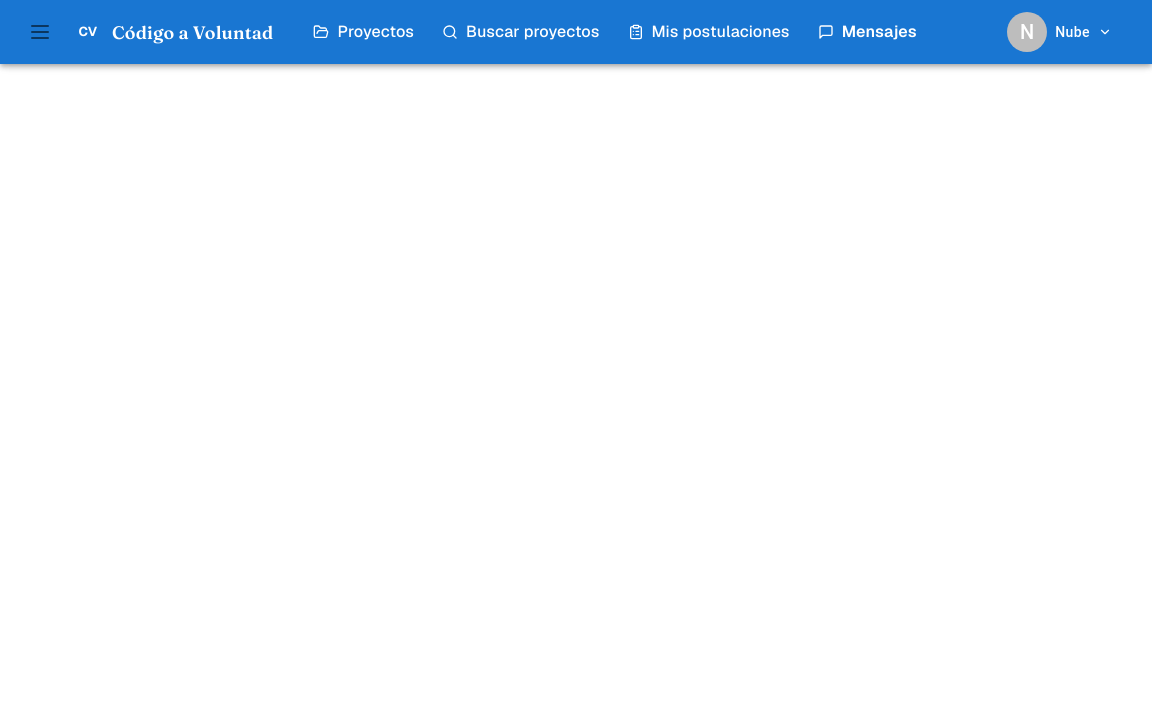
Navbar › el menú lateral se abre, se cierra con Escape y al elegir una sección
Click the button named "Abrir menú".
click(40, 32)  # box [20, 12, 60, 52]
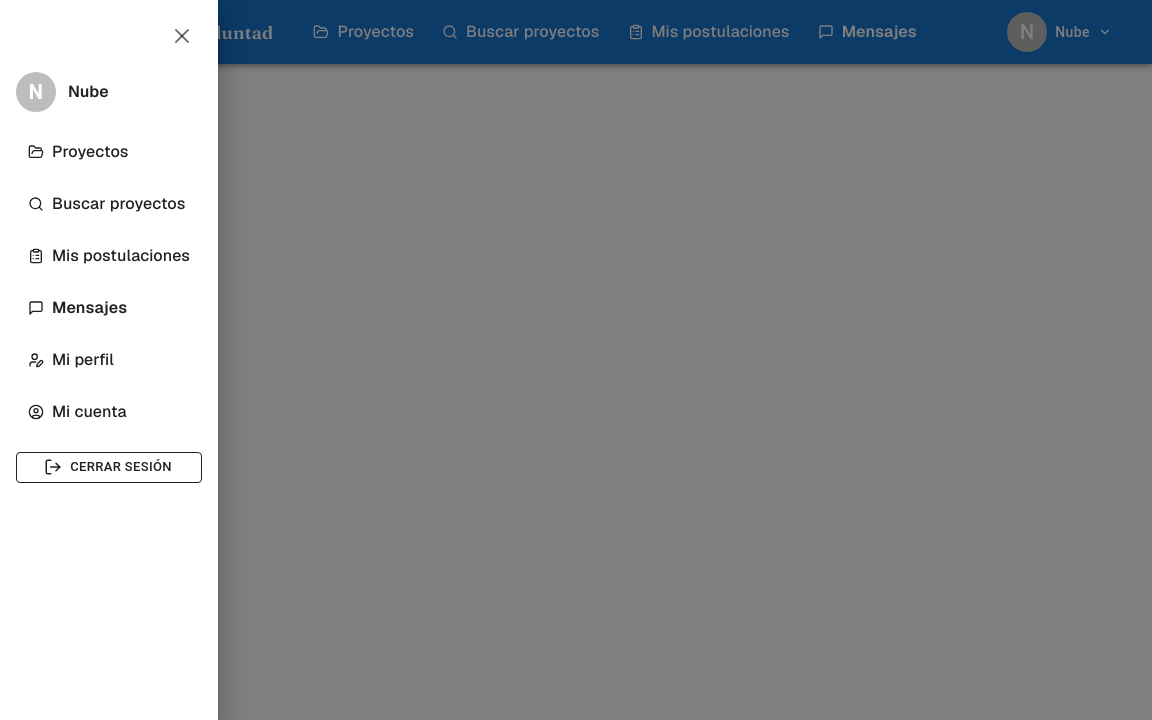
Check: the text "Nube" is shown, box [68, 80, 109, 104]
Check: the link "Mis postulaciones" is shown, box [28, 245, 190, 266]
Press Escape
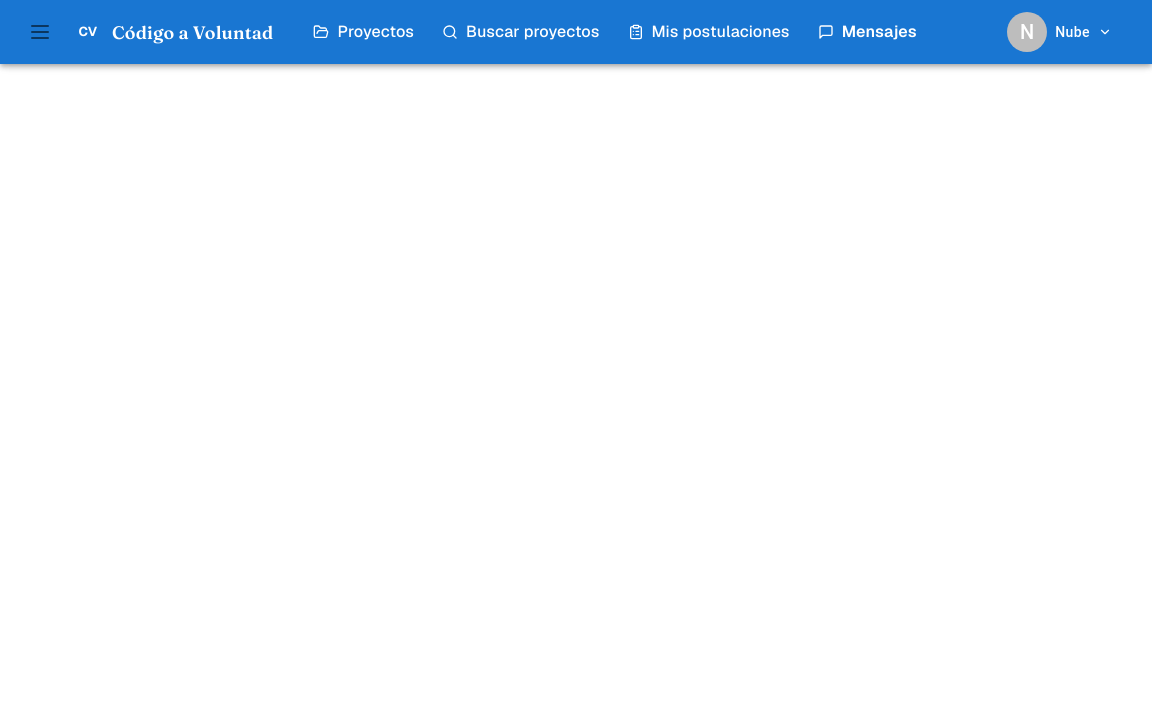
Check: the button "Menú" is gone
Click the button named "Abrir menú".
click(40, 32)  # box [20, 12, 60, 52]
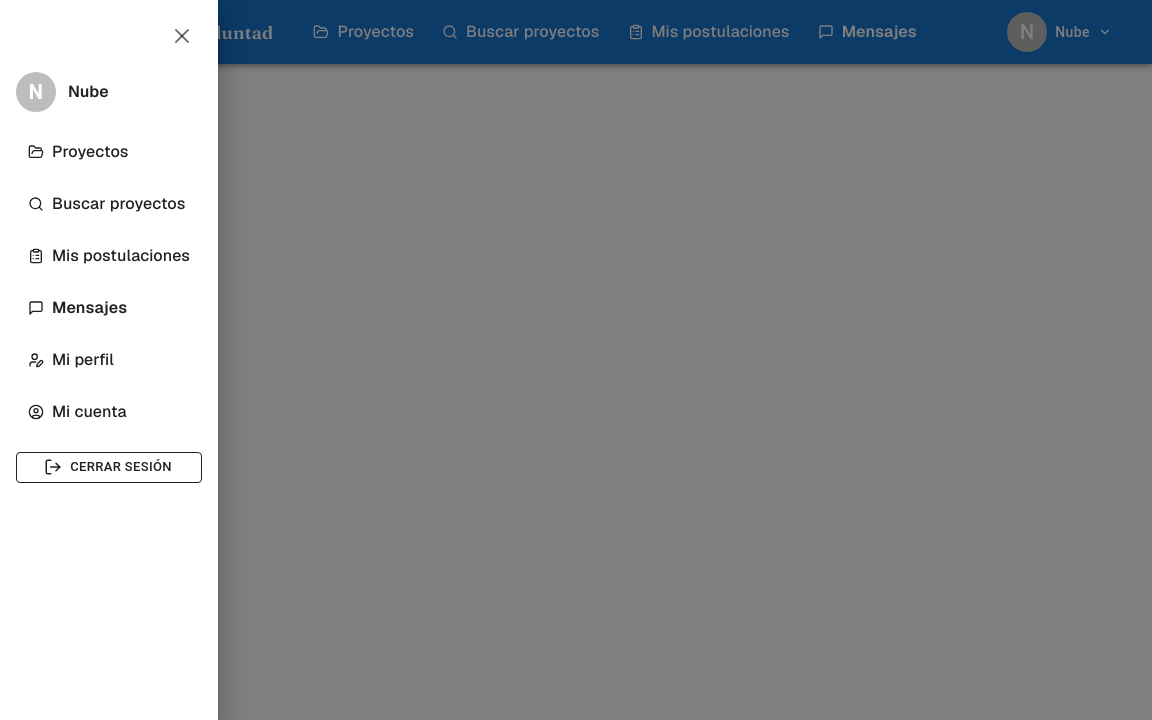
Click the link "Proyectos".
click(78, 152)  # box [28, 141, 129, 162]
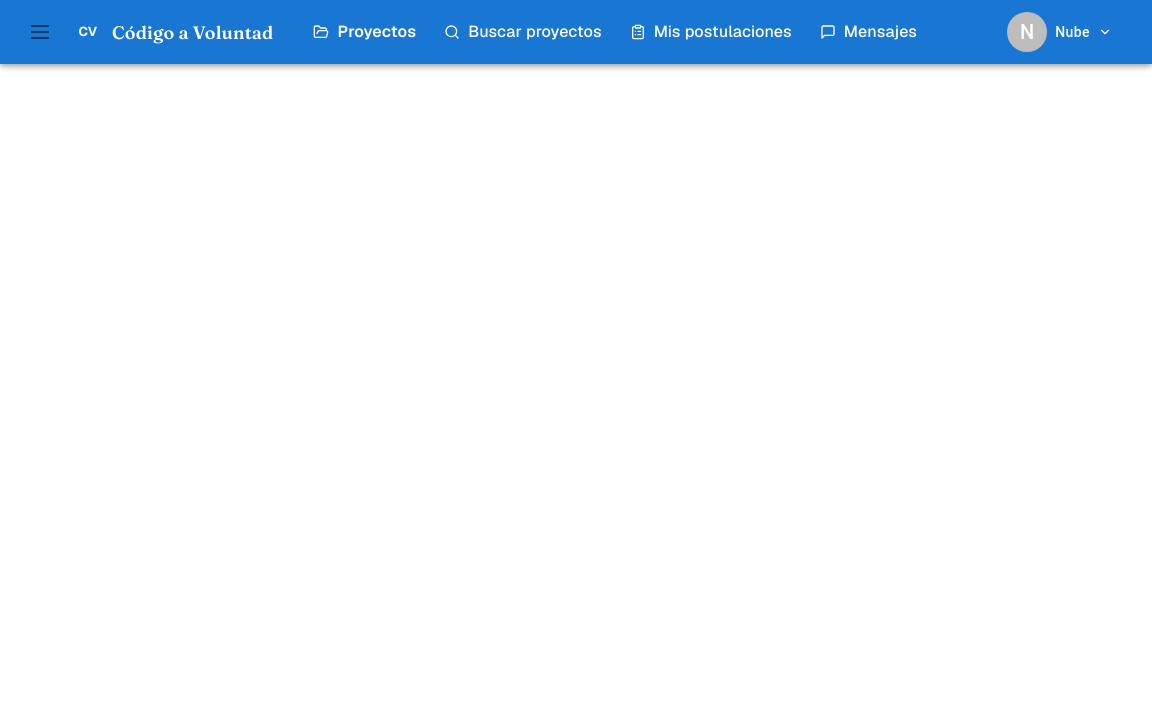
Check: the heading "Inicio" is shown, box [0, 4, 91, 43]
Check: the button "Menú" is gone
